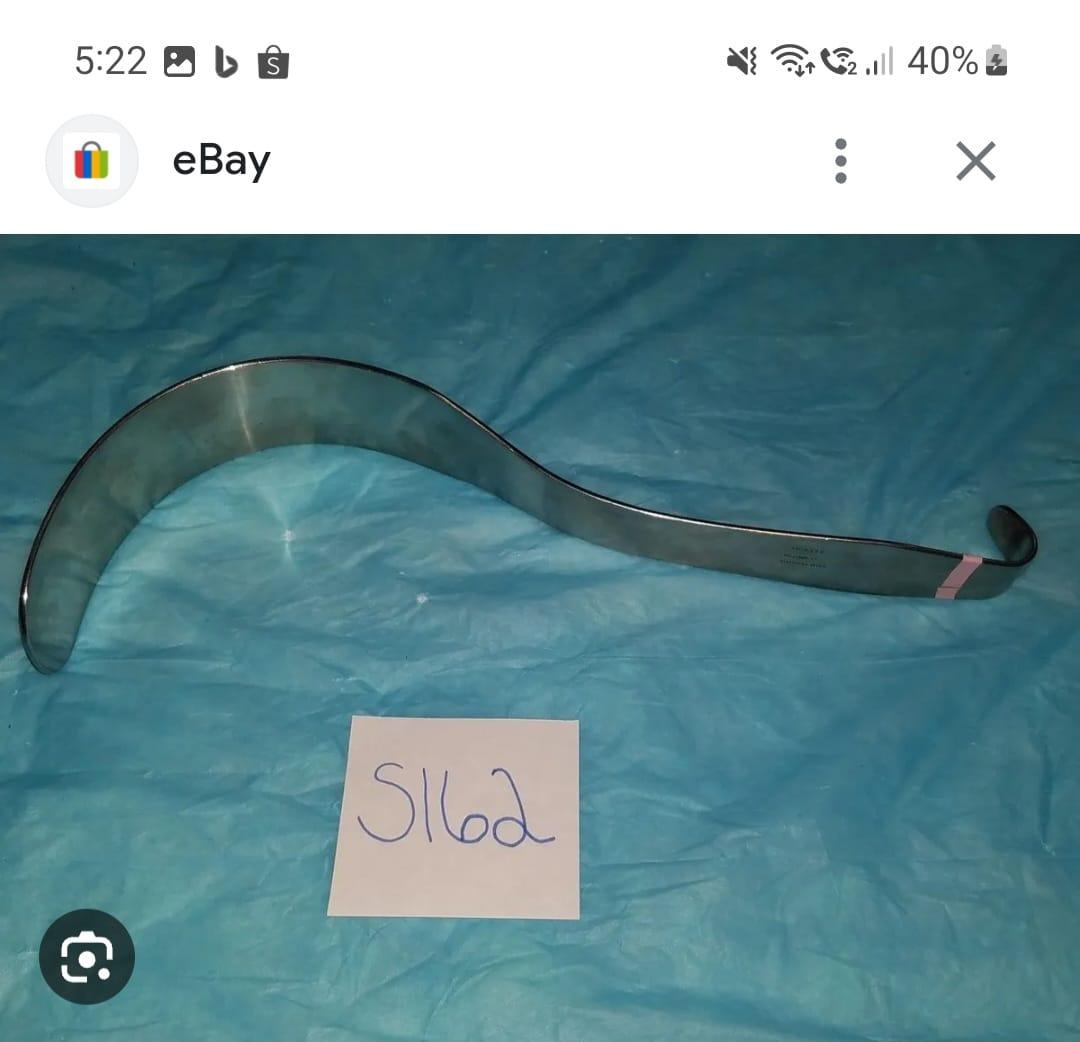Deaver Retractor: (17, 348, 1052, 690)
